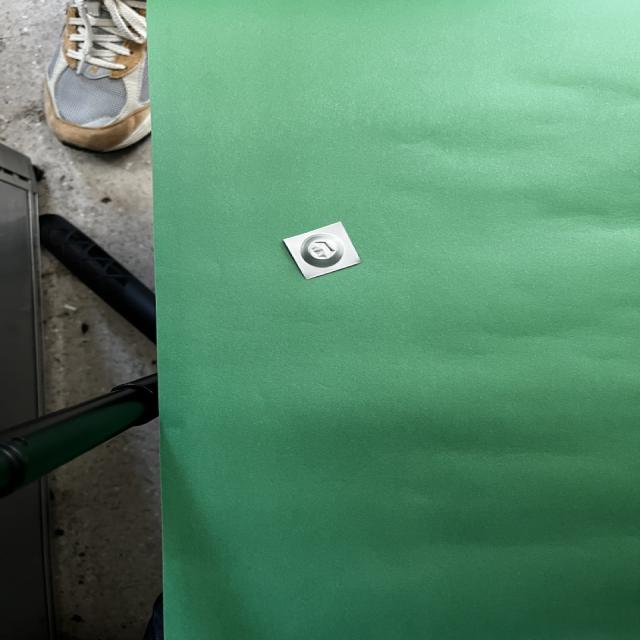Other Objects: (283, 222, 360, 279)
